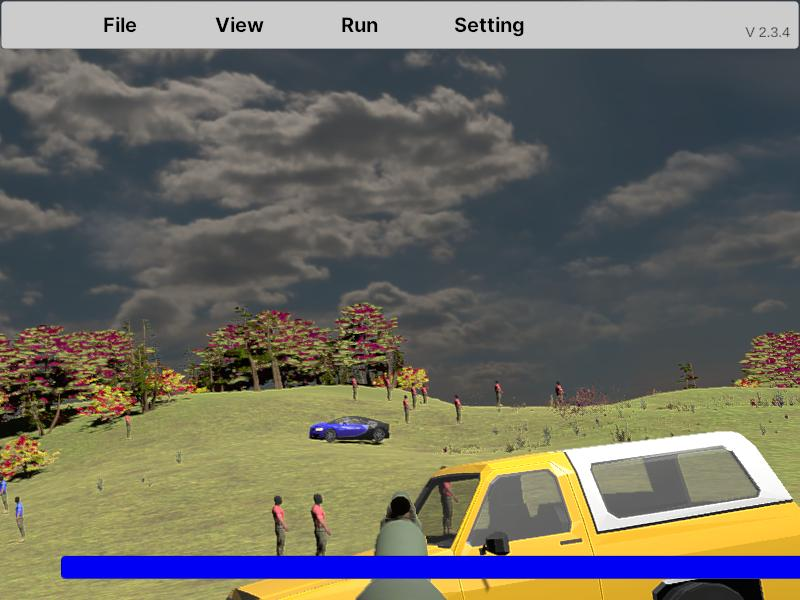Human: (311, 492, 332, 574), (272, 494, 289, 571)
car: (216, 434, 792, 600), (309, 415, 389, 444)
